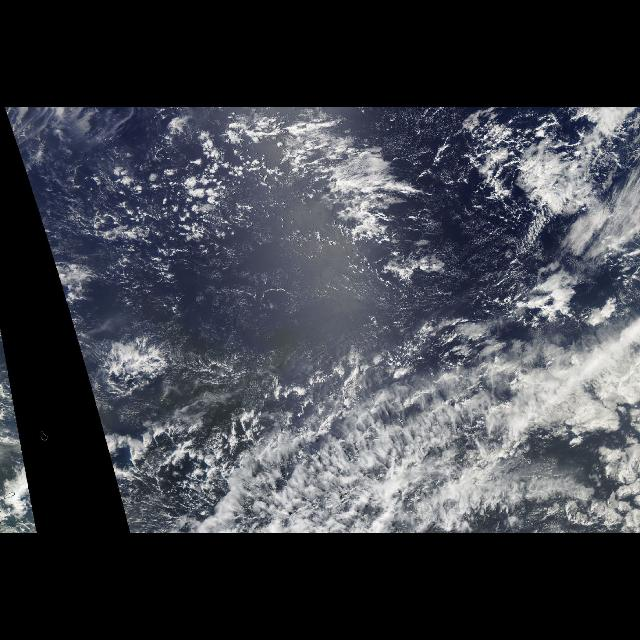Gravel: (90, 121, 440, 325)
